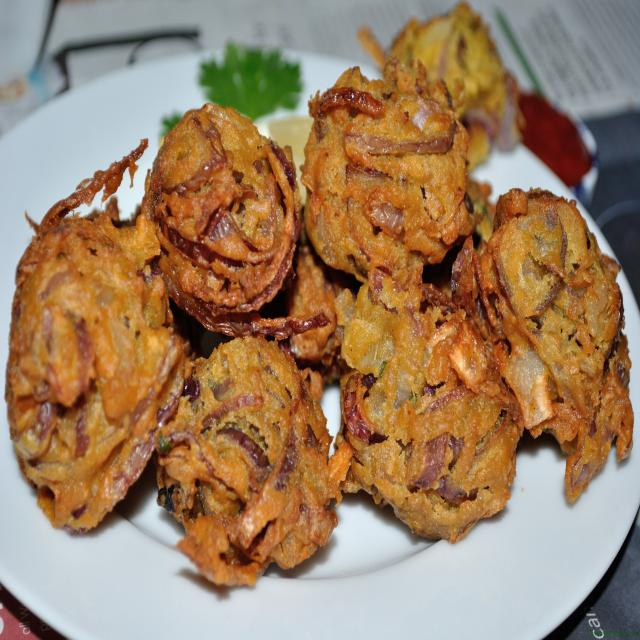BAJI: (335, 240, 523, 542), (6, 214, 189, 485), (476, 189, 633, 500), (154, 337, 349, 584), (301, 63, 479, 289), (156, 338, 301, 591), (143, 105, 299, 312), (301, 544, 308, 550), (220, 177, 225, 183)
